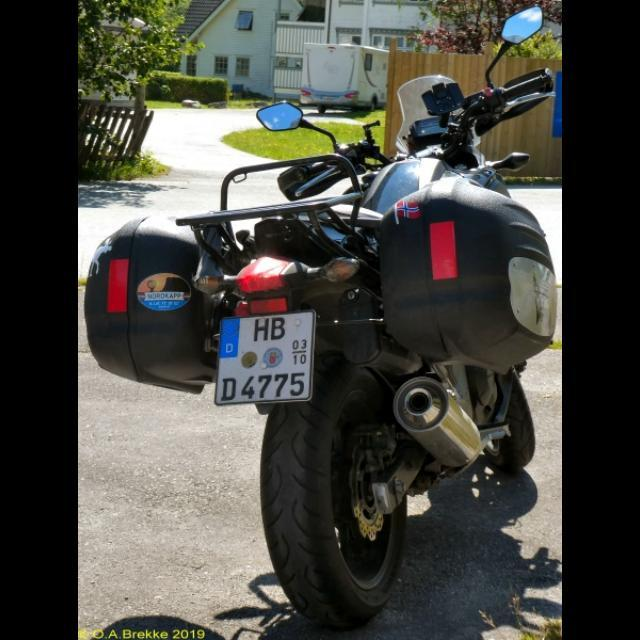license-plates: (215, 312, 314, 406)
